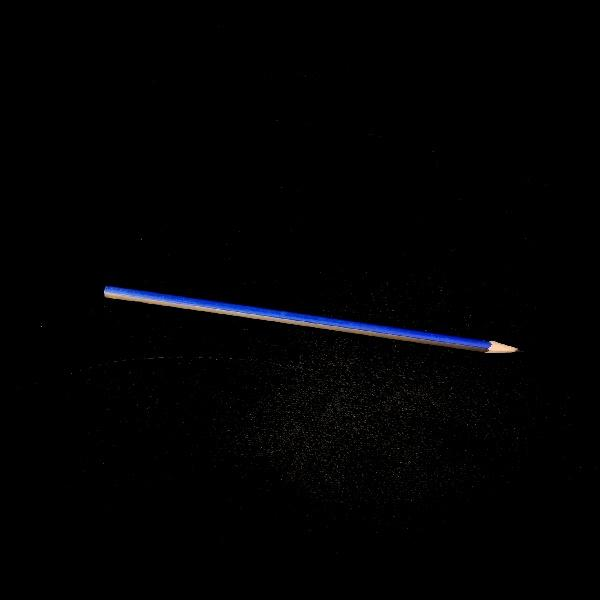pencil: (105, 287, 517, 352)
